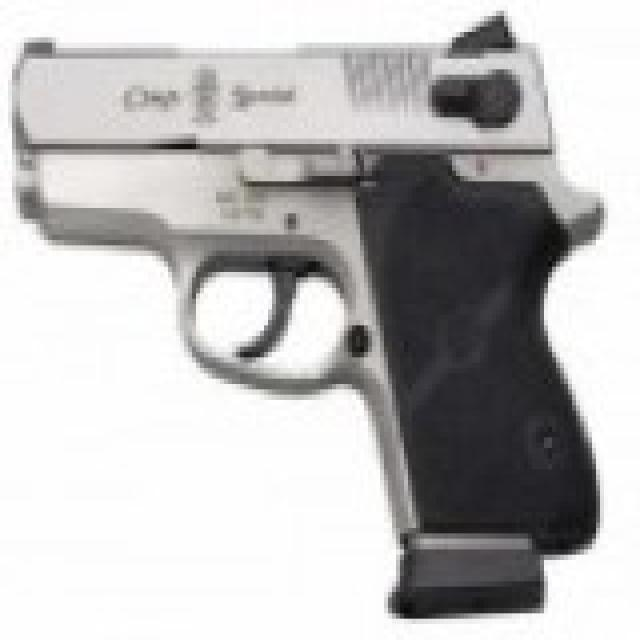gun: (4, 21, 600, 630)
